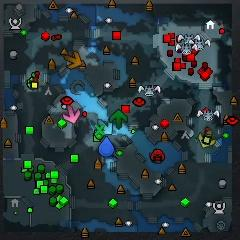Other: (94, 124, 106, 137)
p1: (98, 136, 114, 157)
x1: (62, 106, 80, 122)
x2: (198, 131, 215, 148)
x3: (98, 119, 113, 135)
x4: (110, 109, 128, 129)
x5: (65, 51, 82, 69)
